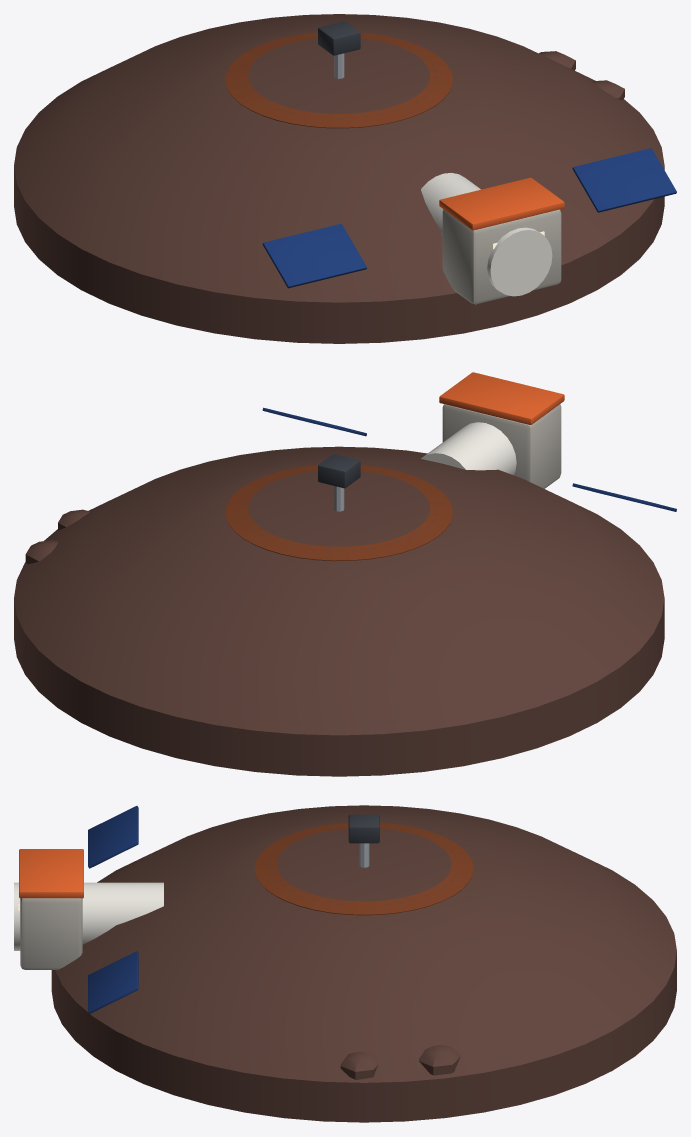
File: lava_habitat.glb
The picture shows the model from 3 angles, top to bottom: view 1: azimuth 30°, elevation 25°; view 2: azimuth 150°, elevation 25°; view 3: azimuth 270°, elevation 25°; orthographic projection. The views are drawn at different scales.
Visible parts, largest first — view 1: lava_habitat; view 2: lava_habitat; view 3: lava_habitat.
Boxes of the visible parts, <box> form: lava_habitat: <box>14,14,676,343</box>; lava_habitat: <box>14,372,676,776</box>; lava_habitat: <box>14,805,676,1122</box>.
Bounding box in the file's own units: 10 × 3 × 10.6.
